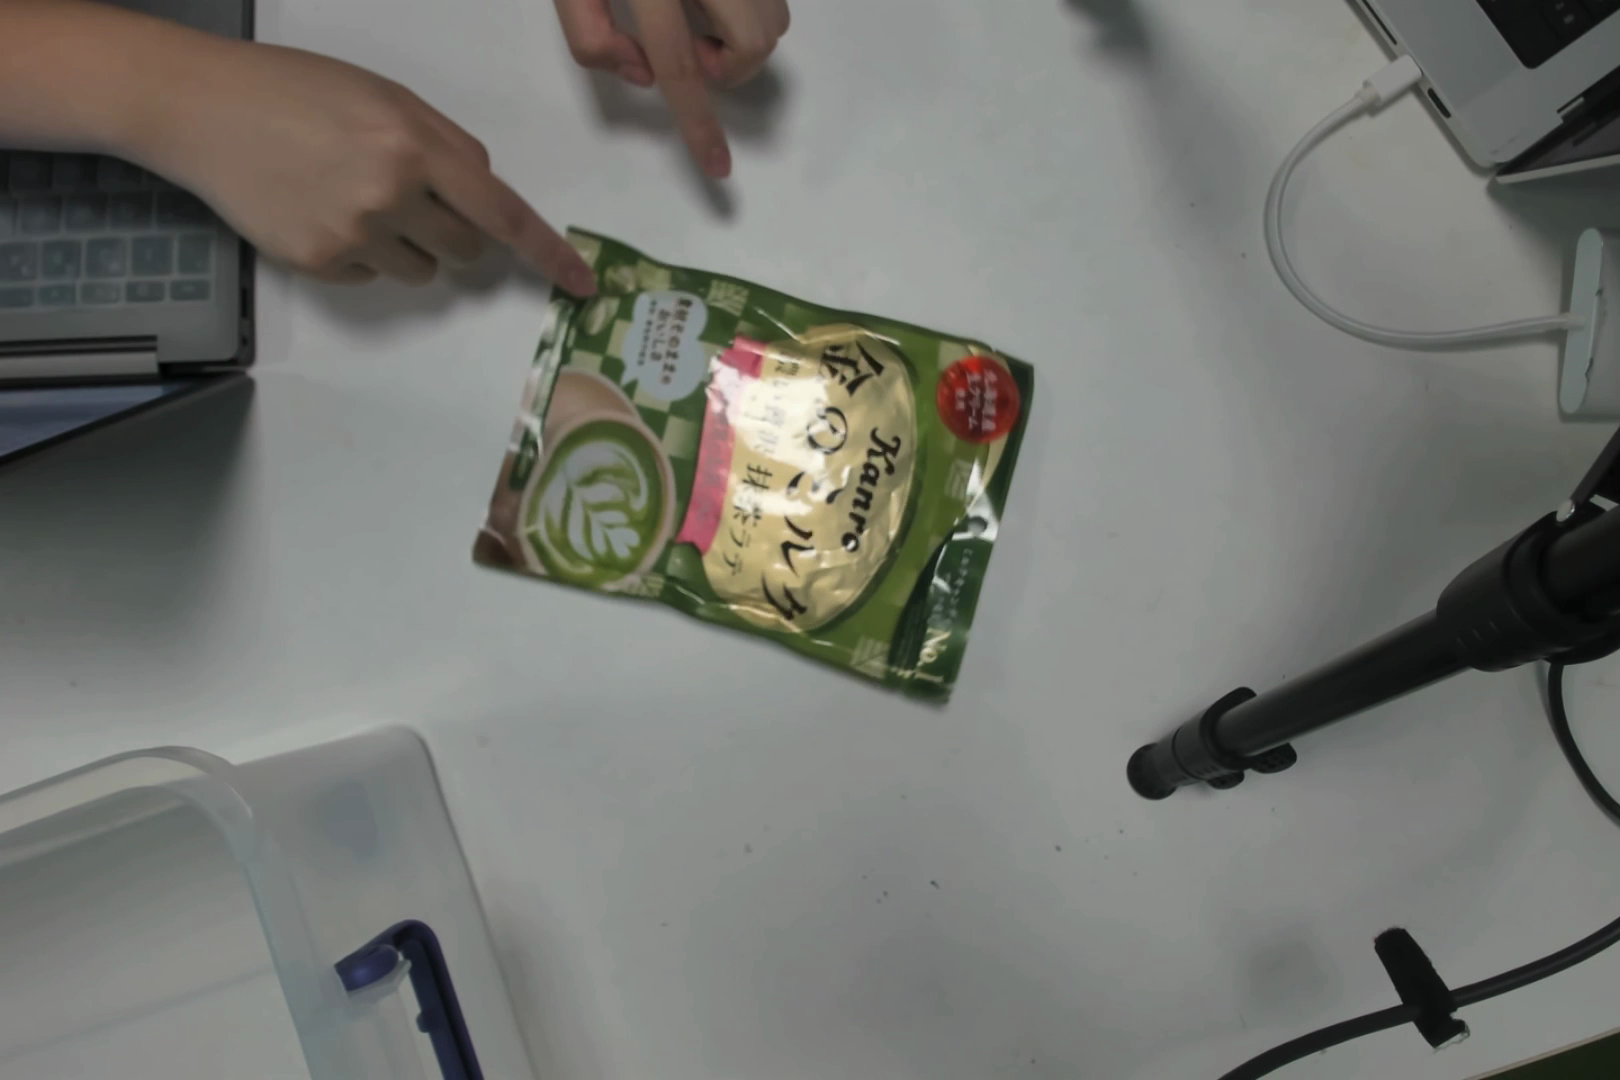SweetsChocolatesOthers_1-99g_NonHalal_NonHealthy: (542, 262, 1056, 673)
